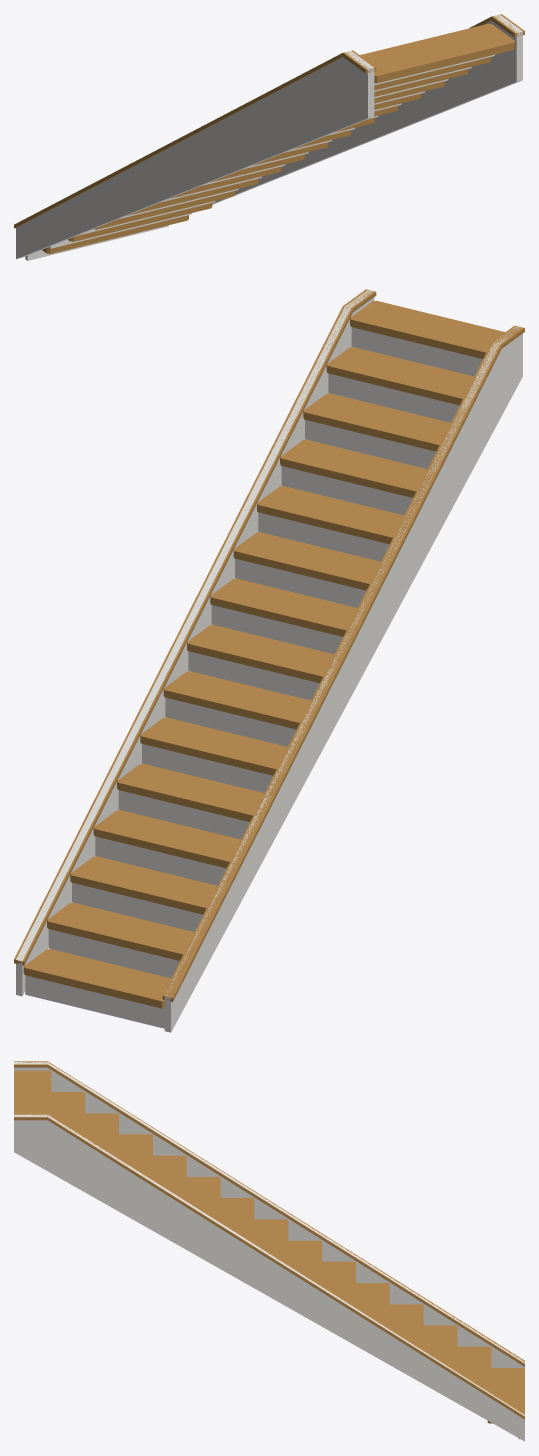
File: SM_LPI_Stair_Flight_01.fbx
The picture shows the model from 3 angles, top to bottom: view 1: azimuth 30°, elevation 25°; view 2: azimuth 150°, elevation 25°; view 3: azimuth 270°, elevation 25°; orthographic projection. The views are drawn at different scales.
Visible parts, largest first — view 1: SM_LPI_Stair_Flight_01; view 2: SM_LPI_Stair_Flight_01; view 3: SM_LPI_Stair_Flight_01.
Boxes of the visible parts, <box> form: SM_LPI_Stair_Flight_01: <box>14,14,524,260</box>; SM_LPI_Stair_Flight_01: <box>14,289,524,1032</box>; SM_LPI_Stair_Flight_01: <box>14,1061,524,1441</box>.
Bounding box in the file's own units: 1.02 × 2.76 × 3.93.
